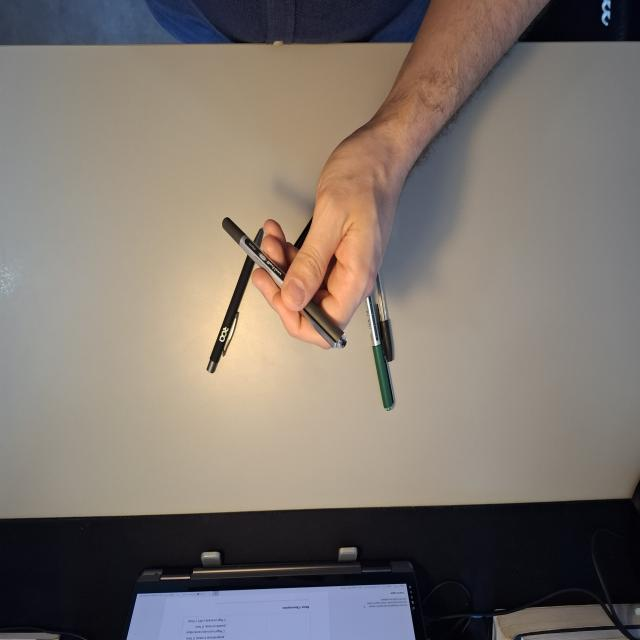glove_off: (250, 120, 418, 351)
